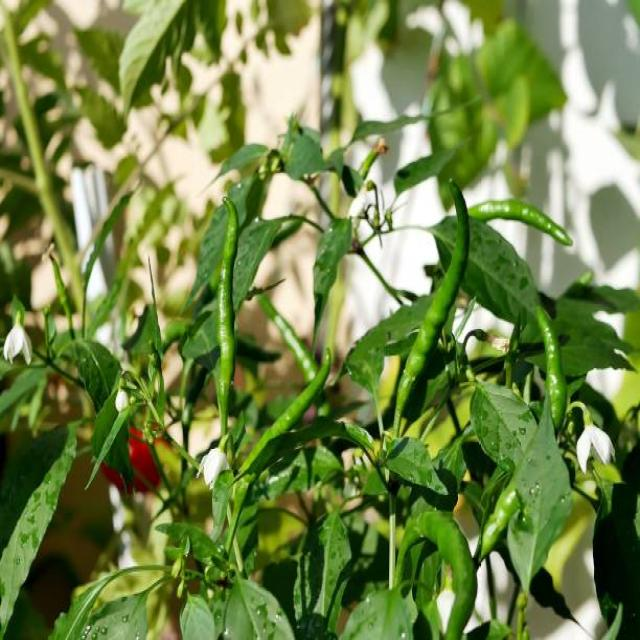Unripe: (221, 343, 337, 556), (388, 171, 476, 436), (392, 510, 481, 640), (214, 189, 244, 428), (470, 196, 578, 250), (535, 307, 566, 431)
